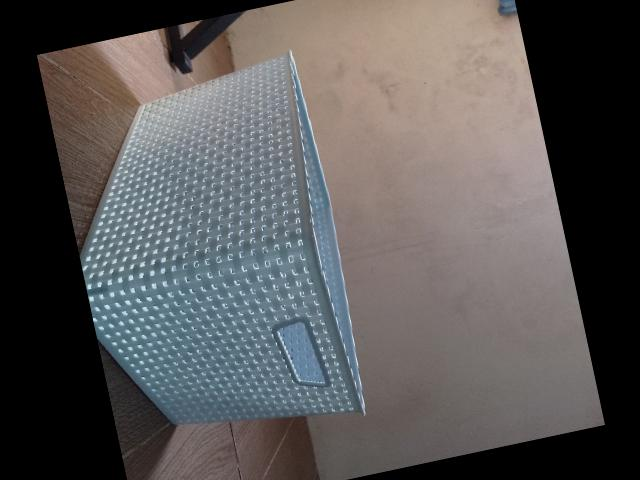cart: (78, 49, 364, 425)
